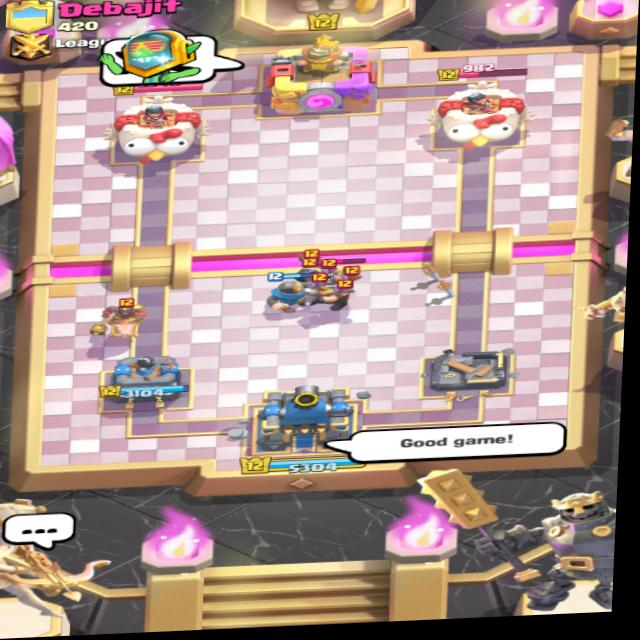bats: (316, 278, 366, 303), (333, 256, 374, 286)
hog-rider: (71, 294, 171, 339)
